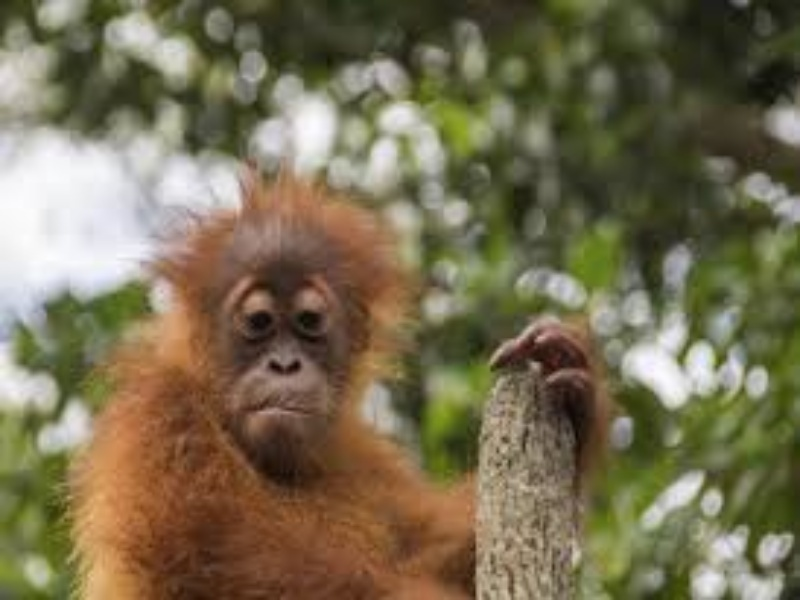monkey: (62, 159, 602, 600)
